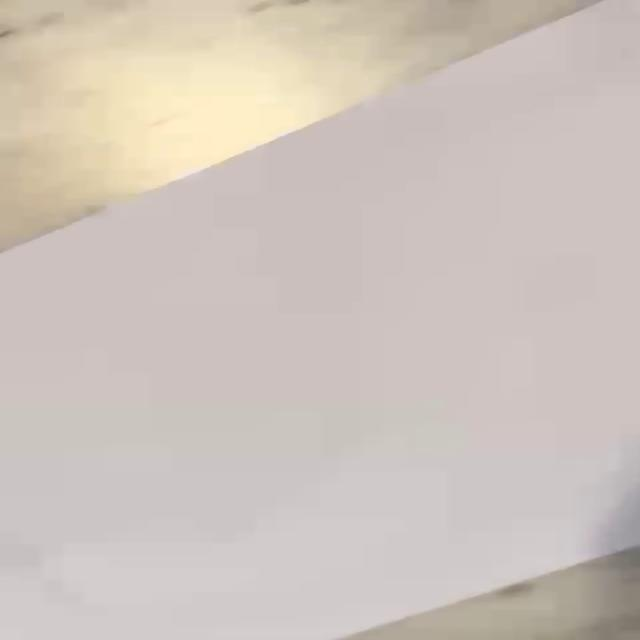road: (0, 0, 640, 640)
